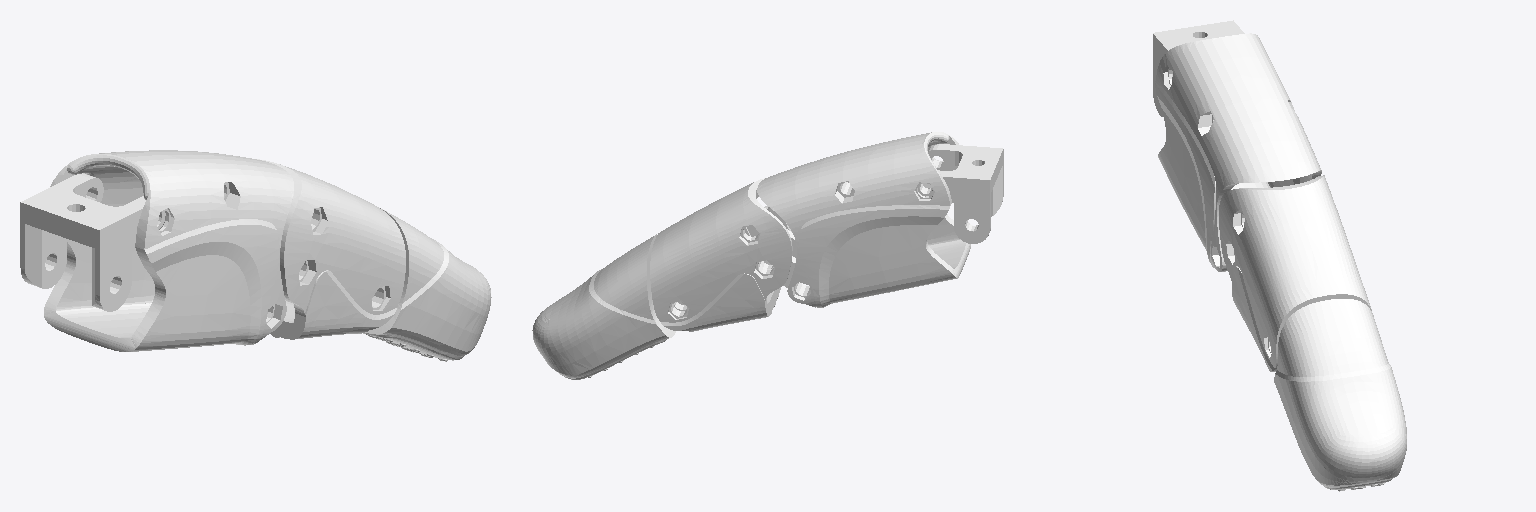
robot.urdf — inspire:
<?xml version="1.0" ?>
<!-- =================================================================================== -->
<!-- |    This document was autogenerated by xacro from inspire/urdf/urdf_right_12_20.xacro | -->
<!-- |    EDITING THIS FILE BY HAND IS NOT RECOMMENDED                                 | -->
<!-- =================================================================================== -->
<!-- This URDF was automatically created by SolidWorks to URDF Exporter! Originally created by [author] ([email redacted]) 
     Commit Version: 1.6.0-4-g7f85cfe  Build Version: 1.6.7995.38578
     For more information, please see http://wiki.ros.org/sw_urdf_exporter -->
<robot name="inspire">
  <link name="world"/>
  <joint name="world_joint" type="fixed">
    <parent link="world"/>
    <child link="allegro_root0"/>
    <origin rpy="0 0 0" xyz="0 0 0"/>
  </joint>


  <link name="allegro_root0">
    <inertial>
      <origin rpy="0 0 0" xyz="0 0 0"/>
      <mass value="4.00000"/>
      <inertia ixx="1e-4" ixy="0" ixz="0" iyy="1e-4" iyz="0" izz="1e-4"/>
    </inertial>
  </link>
    <link name="allegro_root1">
    <inertial>
      <mass value="0.05"/>
      <inertia ixx="1e-4" ixy="0.0" ixz="0.0" iyy="1e-4" iyz="0.0" izz="1e-4"/>
    </inertial>
  </link>
  <link name="allegro_root2">
    <inertial>
      <mass value="0.05"/>
      <inertia ixx="1e-4" ixy="0.0" ixz="0.0" iyy="1e-4" iyz="0.0" izz="1e-4"/>
    </inertial>
  </link>
    <link name="allegro_root3">
    <inertial>
      <mass value="0.05"/>
      <inertia ixx="1e-4" ixy="0.0" ixz="0.0" iyy="1e-4" iyz="0.0" izz="1e-4"/>
    </inertial>
  </link>
  <link name="allegro_root4">
    <inertial>
      <mass value="0.05"/>
      <inertia ixx="1e-4" ixy="0.0" ixz="0.0" iyy="1e-4" iyz="0.0" izz="1e-4"/>
    </inertial>
  </link>
  <link name="allegro_root5">
    <inertial>
      <mass value="0.05"/>
      <inertia ixx="1e-4" ixy="0.0" ixz="0.0" iyy="1e-4" iyz="0.0" izz="1e-4"/>
    </inertial>
  </link>
  
  <joint name="x_joint" type="prismatic">
    <parent link="allegro_root0"/>
    <child link="allegro_root1"/>
    <axis xyz="1 0 0"/>
    <limit effort="100" lower="-50.0" upper="50.0" velocity="20"/>
  </joint>
  <joint name="y_joint" type="prismatic">
    <parent link="allegro_root1"/>
    <child link="allegro_root2"/>
    <axis xyz="0 1 0"/>
    <limit effort="100" lower="-50.0" upper="50.0" velocity="20"/>
  </joint>
  <joint name="z_joint" type="prismatic">
    <parent link="allegro_root2"/>
    <child link="allegro_root3"/>
    <axis xyz="0 0 1"/>
    <limit effort="100" lower="-50.0" upper="50.0" velocity="20"/>
  </joint>

  <joint name="x_rotation_joint" type="revolute">
    <parent link="allegro_root3"/>
    <child link="allegro_root4"/>
    <axis xyz="1 0 0"/>
    <limit effort="100" lower="-6.28" upper="6.28" velocity="20"/>
  </joint>
  <joint name="y_rotation_joint" type="revolute">
    <parent link="allegro_root4"/>
    <child link="allegro_root5"/>
    <axis xyz="0 1 0"/>
    <limit effort="100" lower="-6.28" upper="6.28" velocity="20"/>
  </joint>
  <joint name="z_rotation_joint" type="revolute">
    <parent link="allegro_root5"/>
    <child link="wrist"/>
    <axis xyz="0 0 1"/>
    <!-- <origin rpy="-0.00000 -0.00000 0" xyz="0 0 0"/> -->
    <limit effort="100" lower="-6.28" upper="6.28" velocity="20"/>
  </joint>



  <link name="wrist"/>
  <joint name="R_hand_base_joint" type="fixed">
    <origin rpy="0.0  0 0" xyz="0.0 0.0 0.000"/>
    <parent link="wrist"/>
    <child link="base_link"/>
  </joint>
  <link name="base_link">
    <inertial>
      <origin rpy="0 0 0" xyz="-4.91696692515552E-05 -0.00297934158474353 -0.0724838074966582"/>
      <mass value="0.260034351097693"/>
      <inertia ixx="0.000240584294557413" ixy="1.12900341553271E-06" ixz="5.34716263010627E-07" iyy="0.000284423438713157" iyz="-1.41174524262487E-05" izz="0.000155854672271766"/>
    </inertial>
    <visual>
      <origin rpy="0 0 0" xyz="0 0 0"/>
      <geometry>
        <mesh filename="inspire/meshes/base_link.STL"/>
      </geometry>
      <material name="">
        <color rgba="1 1 1 1"/>
      </material>
    </visual>
    <collision>
      <origin rpy="0 0 0" xyz="0 0 0"/>
      <geometry>
        <mesh filename="inspire/meshes/base_link.STL"/>
      </geometry>
    </collision>
  </link>
  <link name="right_thumb_1">
    <inertial>
      <origin rpy="0 0 0" xyz="-0.00178423179132732 0.000649410769092404 0.00488589310434417"/>
      <mass value="0.00115518743162309"/>
      <inertia ixx="5.98911473694571E-08" ixy="-8.04324266712912E-09" ixz="-3.29346964287939E-09" iyy="4.07201940087006E-08" iyz="1.1987242259973E-09" izz="6.18161684388651E-08"/>
    </inertial>
    <visual>
      <origin rpy="0 0 0" xyz="0 0 0"/>
      <geometry>
        <mesh filename="inspire/meshes/right_thumb_1.STL"/>
      </geometry>
      <material name="">
        <color rgba="1 1 1 1"/>
      </material>
    </visual>
    <collision>
      <origin rpy="0 0 0" xyz="0 0 0"/>
      <geometry>
        <mesh filename="inspire/meshes/right_thumb_1.STL"/>
      </geometry>
    </collision>
  </link>
  <joint name="right_thumb_1_joint" type="revolute">
    <origin rpy="-3.1416 0 -3.1416" xyz="0.0269 0.02101 -0.069"/>
    <parent link="base_link"/>
    <child link="right_thumb_1"/>
    <axis xyz="0 0 -1"/>
    <limit effort="10" lower="0" upper="1.15" velocity="1"/>
  </joint>
  <link name="right_thumb_2">
    <inertial>
      <origin rpy="0 0 0" xyz="0.0141071308121962 0.0132720367246953 -0.00905029680056009"/>
      <mass value="0.016"/>
      <inertia ixx="1.06573287501608E-06" ixy="-7.61985755293293E-08" ixz="-2.57609628655293E-11" iyy="1.06536320559038E-06" iyz="5.09603163270097E-12" izz="1.39688473195303E-06"/>
    </inertial>
    <visual>
      <origin rpy="0 0 0" xyz="0 0 0"/>
      <geometry>
        <mesh filename="inspire/meshes/right_thumb_2.STL"/>
      </geometry>
      <material name="">
        <color rgba="1 1 1 1"/>
      </material>
    </visual>
    <collision>
      <origin rpy="0 0 0" xyz="0 0 0"/>
      <geometry>
        <mesh filename="inspire/meshes/right_thumb_2.STL"/>
      </geometry>
    </collision>
  </link>
  <joint name="right_thumb_2_joint" type="revolute">
    <origin rpy="1.5708 0 2.7925" xyz="-0.0063016 0.011924 0.003"/>
    <parent link="right_thumb_1"/>
    <child link="right_thumb_2"/>
    <axis xyz="0 0 1"/>
    <limit effort="10" lower="0" upper="0.55" velocity="1"/>
  </joint>
  <link name="right_thumb_3">
    <inertial>
      <origin rpy="0 0 0" xyz="0.00937843602210774 0.00404407714692963 -0.00753947150343212"/>
      <mass value="0.012"/>
      <inertia ixx="4.67837152048068E-07" ixy="-4.50034504480504E-08" ixz="-7.50604972036399E-11" iyy="3.98821847444202E-07" iyz="-2.80308780973008E-10" izz="4.24792779381109E-07"/>
    </inertial>
    <visual>
      <origin rpy="0 0 0" xyz="0 0 0"/>
      <geometry>
        <mesh filename="inspire/meshes/right_thumb_3.STL"/>
      </geometry>
      <material name="">
        <color rgba="1 1 1 1"/>
      </material>
    </visual>
    <collision>
      <origin rpy="0 0 0" xyz="0 0 0"/>
      <geometry>
        <mesh filename="inspire/meshes/right_thumb_3.STL"/>
      </geometry>
    </collision>
  </link>
  <joint name="right_thumb_3_joint" type="revolute">
    <origin rpy="0 0 0" xyz="0.034968 0.021325 -0.0015"/>
    <parent link="right_thumb_2"/>
    <child link="right_thumb_3"/>
    <axis xyz="0 0 1"/>
    <limit effort="10" lower="0" upper="3.14" velocity="1"/>
    <mimic joint="right_thumb_2_joint" multiplier="0.60" offset="0"/>
  </joint>
  <link name="right_thumb_4">
    <inertial>
      <origin rpy="0 0 0" xyz="0.0109973997213043 0.00131062737520288 -0.0073435196000655"/>
      <mass value="0.01"/>
      <inertia ixx="6.43617695804108E-07" ixy="-2.57371067432159E-07" ixz="8.83834214745077E-10" iyy="7.63665185138253E-07" iyz="7.47494238463672E-10" izz="9.2568863295396E-07"/>
    </inertial>
    <visual>
      <origin rpy="0 0 0" xyz="0 0 0"/>
      <geometry>
        <mesh filename="inspire/meshes/right_thumb_4.STL"/>
      </geometry>
      <material name="">
        <color rgba="1 1 1 1"/>
      </material>
    </visual>
    <collision>
      <origin rpy="0 0 0" xyz="0 0 0"/>
      <geometry>
        <mesh filename="inspire/meshes/right_thumb_4.STL"/>
      </geometry>
    </collision>
  </link>
  <joint name="right_thumb_4_joint" type="revolute">
    <origin rpy="0 0 0" xyz="0.018887 0.011501 -0.0002"/>
    <parent link="right_thumb_3"/>
    <child link="right_thumb_4"/>
    <axis xyz="0 0 1"/>
    <limit effort="10" lower="0" upper="3.14" velocity="1"/>
    <mimic joint="right_thumb_2_joint" multiplier="0.8" offset="0"/>
  </joint>
  <link name="right_index_1">
    <inertial>
      <origin rpy="0 0 0" xyz="-0.00183546255523356 0.0123552521861834 -0.00664922294778368"/>
      <mass value="0.00719999389753264"/>
      <inertia ixx="1.28371991025318E-06" ixy="4.21564829206078E-08" ixz="-4.10859703056649E-12" iyy="5.79478432222904E-07" iyz="6.39690407239206E-11" izz="1.32925246769088E-06"/>
    </inertial>
    <visual>
      <origin rpy="0 0 0" xyz="0 0 0"/>
      <geometry>
        <mesh filename="inspire/meshes/right_index_1.STL"/>
      </geometry>
      <material name="">
        <color rgba="1 1 1 1"/>
      </material>
    </visual>
    <collision>
      <origin rpy="0 0 0" xyz="0 0 0"/>
      <geometry>
        <mesh filename="inspire/meshes/right_index_1.STL"/>
      </geometry>
    </collision>
  </link>
  <joint name="right_index_1_joint" type="revolute">
    <origin rpy="-1.5359 0 -1.5708" xyz="0.038679 0.00056467 -0.1564"/>
    <parent link="base_link"/>
    <child link="right_index_1"/>
    <axis xyz="0 0 1"/>
    <limit effort="10" lower="0" upper="1.6" velocity="1"/>
  </joint>
  <link name="right_index_2">
    <inertial>
      <origin rpy="0 0 0" xyz="0.000405081354201142 0.0257028143581744 -0.00609275623125877"/>
      <mass value="0.0096859422185797"/>
      <inertia ixx="2.25513837942244E-06" ixy="4.11239564383381E-07" ixz="-3.94499739658711E-10" iyy="3.91290903748666E-07" iyz="2.79706871963245E-09" izz="2.30200483771215E-06"/>
    </inertial>
    <visual>
      <origin rpy="0 0 0" xyz="0 0 0"/>
      <geometry>
        <mesh filename="inspire/meshes/right_index_2.STL"/>
      </geometry>
      <material name="">
        <color rgba="1 1 1 1"/>
      </material>
    </visual>
    <collision>
      <origin rpy="0 0 0" xyz="0 0 0"/>
      <geometry>
        <mesh filename="inspire/meshes/right_index_2.STL"/>
      </geometry>
    </collision>
  </link>
  <joint name="right_index_2_joint" type="revolute">
    <origin rpy="0 0 0" xyz="-0.0016312 0.032734 -0.00055"/>
    <parent link="right_index_1"/>
    <child link="right_index_2"/>
    <axis xyz="0 0 1"/>
    <limit effort="10" lower="0" upper="3.14" velocity="1"/>
    <mimic joint="right_index_1_joint" multiplier="1.05" offset="0"/>
  </joint>
  <link name="right_middle_1">
    <inertial>
      <origin rpy="0 0 0" xyz="-0.00229221489529491 0.0122787164691098 -0.00664923691414206"/>
      <mass value="0.00719999454699651"/>
      <inertia ixx="1.27961146095209E-06" ixy="6.81307502326408E-08" ixz="-6.13869092479439E-12" iyy="5.83570383259162E-07" iyz="6.33401074034573E-11" izz="1.32923656099557E-06"/>
    </inertial>
    <visual>
      <origin rpy="0 0 0" xyz="0 0 0"/>
      <geometry>
        <mesh filename="inspire/meshes/right_middle_1.STL"/>
      </geometry>
      <material name="">
        <color rgba="1 1 1 1"/>
      </material>
    </visual>
    <collision>
      <origin rpy="0 0 0" xyz="0 0 0"/>
      <geometry>
        <mesh filename="inspire/meshes/right_middle_1.STL"/>
      </geometry>
    </collision>
  </link>
  <joint name="right_middle_1_joint" type="revolute">
    <origin rpy="-1.5708 0 -1.5708" xyz="0.0171 0.00056467 -0.157"/>
    <parent link="base_link"/>
    <child link="right_middle_1"/>
    <axis xyz="0 0 1"/>
    <limit effort="10" lower="0" upper="1.6" velocity="1"/>
  </joint>
  <link name="right_middle_2">
    <inertial>
      <origin rpy="0 0 0" xyz="7.55635061812504E-05 0.0274472409700489 -0.00610051225570537"/>
      <mass value="0.0104603374357648"/>
      <inertia ixx="2.75802690517233E-06" ixy="4.66354191789105E-07" ixz="-3.73412436067728E-12" iyy="4.22418749660047E-07" iyz="7.48571284682703E-11" izz="2.80694637912416E-06"/>
    </inertial>
    <visual>
      <origin rpy="0 0 0" xyz="0 0 0"/>
      <geometry>
        <mesh filename="inspire/meshes/right_middle_2.STL"/>
      </geometry>
      <material name="">
        <color rgba="1 1 1 1"/>
      </material>
    </visual>
    <collision>
      <origin rpy="0 0 0" xyz="0 0 0"/>
      <geometry>
        <mesh filename="inspire/meshes/right_middle_2.STL"/>
      </geometry>
    </collision>
  </link>
  <joint name="right_middle_2_joint" type="revolute">
    <origin rpy="0 0 0" xyz="-0.0028436 0.032651 -0.00055"/>
    <parent link="right_middle_1"/>
    <child link="right_middle_2"/>
    <axis xyz="0 0 1"/>
    <limit effort="10" lower="0" upper="3.14" velocity="1"/>
    <mimic joint="right_middle_1_joint" multiplier="1.05" offset="0"/>
  </joint>
  <link name="right_ring_1">
    <inertial>
      <origin rpy="0 0 0" xyz="-0.00240481178777661 0.0122571709475593 -0.00664923625225445"/>
      <mass value="0.00719998997814135"/>
      <inertia ixx="1.27830103769765E-06" ixy="7.45073064952646E-08" ixz="-6.73880804360017E-12" iyy="5.84879553082369E-07" iyz="6.3350585052199E-11" izz="1.32923557625193E-06"/>
    </inertial>
    <visual>
      <origin rpy="0 0 0" xyz="0 0 0"/>
      <geometry>
        <mesh filename="inspire/meshes/right_ring_1.STL"/>
      </geometry>
      <material name="">
        <color rgba="1 1 1 1"/>
      </material>
    </visual>
    <collision>
      <origin rpy="0 0 0" xyz="0 0 0"/>
      <geometry>
        <mesh filename="inspire/meshes/right_ring_1.STL"/>
      </geometry>
    </collision>
  </link>
  <joint name="right_ring_1_joint" type="revolute">
    <origin rpy="-1.6232 0 -1.5708" xyz="-0.0045302 0.00056467 -0.15683"/>
    <parent link="base_link"/>
    <child link="right_ring_1"/>
    <axis xyz="0 0 1"/>
    <limit effort="10" lower="0" upper="1.6" velocity="1"/>
  </joint>
  <link name="right_ring_2">
    <inertial>
      <origin rpy="0 0 0" xyz="0.000666830906754845 0.0256973412492289 -0.0060927714564012"/>
      <mass value="0.0096859390369724"/>
      <inertia ixx="2.26332196405867E-06" ixy="3.92172318180451E-07" ixz="-3.65715440420713E-10" iyy="3.83108005467821E-07" iyz="2.80158649618184E-09" izz="2.30200501593561E-06"/>
    </inertial>
    <visual>
      <origin rpy="0 0 0" xyz="0 0 0"/>
      <geometry>
        <mesh filename="inspire/meshes/right_ring_2.STL"/>
      </geometry>
      <material name="">
        <color rgba="1 1 1 1"/>
      </material>
    </visual>
    <collision>
      <origin rpy="0 0 0" xyz="0 0 0"/>
      <geometry>
        <mesh filename="inspire/meshes/right_ring_2.STL"/>
      </geometry>
    </collision>
  </link>
  <joint name="right_ring_2_joint" type="revolute">
    <origin rpy="0 0 0" xyz="-0.0031431 0.032624 -0.00055"/>
    <parent link="right_ring_1"/>
    <child link="right_ring_2"/>
    <axis xyz="0 0 1"/>
    <limit effort="10" lower="0" upper="3.14" velocity="1"/>
    <mimic joint="right_ring_1_joint" multiplier="1.05" offset="0"/>
  </joint>
  <link name="right_little_1">
    <inertial>
      <origin rpy="0 0 0" xyz="-0.00316844591541324 0.0120823779446085 -0.00664923024026526"/>
      <mass value="0.00719994987013217"/>
      <inertia ixx="1.26624415714453E-06" ixy="1.17303714016617E-07" ixz="-1.15327375313821E-11" iyy="5.96925804604496E-07" iyz="6.36110319315301E-11" izz="1.32922857962206E-06"/>
    </inertial>
    <visual>
      <origin rpy="0 0 0" xyz="0 0 0"/>
      <geometry>
        <mesh filename="inspire/meshes/right_little_1.STL"/>
      </geometry>
      <material name="">
        <color rgba="1 1 1 1"/>
      </material>
    </visual>
    <collision>
      <origin rpy="0 0 0" xyz="0 0 0"/>
      <geometry>
        <mesh filename="inspire/meshes/right_little_1.STL"/>
      </geometry>
    </collision>
  </link>
  <joint name="right_little_1_joint" type="revolute">
    <origin rpy="-1.6755 0 -1.5708" xyz="-0.025916 0.00056467 -0.15365"/>
    <parent link="base_link"/>
    <child link="right_little_1"/>
    <axis xyz="0 0 1"/>
    <limit effort="10" lower="0" upper="1.6" velocity="1"/>
  </joint>
  <link name="right_little_2">
    <inertial>
      <origin rpy="0 0 0" xyz="0.0204417303421136 -0.00469494170410353 -0.00609999668427265"/>
      <mass value="0.0075928240732547"/>
      <inertia ixx="2.31546812157118E-07" ixy="-7.27021381773956E-08" ixz="2.3664966486269E-11" iyy="1.27663957628266E-06" iyz="-7.58283070676144E-12" izz="1.23909562166535E-06"/>
    </inertial>
    <visual>
      <origin rpy="0 0 0" xyz="0 0 0"/>
      <geometry>
        <mesh filename="inspire/meshes/right_little_2.STL"/>
      </geometry>
      <material name="">
        <color rgba="1 1 1 1"/>
      </material>
    </visual>
    <collision>
      <origin rpy="0 0 0" xyz="0 0 0"/>
      <geometry>
        <mesh filename="inspire/meshes/right_little_2.STL"/>
      </geometry>
    </collision>
  </link>
  <joint name="right_little_2_joint" type="revolute">
    <origin rpy="0 0 1.5708" xyz="-0.005182 0.032363 -0.00055"/>
    <parent link="right_little_1"/>
    <child link="right_little_2"/>
    <axis xyz="0 0 1"/>
    <limit effort="10" lower="0" upper="3.14" velocity="1"/>
    <mimic joint="right_little_1_joint" multiplier="1.18" offset="0"/>
  </joint>
  <gazebo>
    <plugin filename="libgazebo_ros_control.so" name="gazebo_ros_control">
      <robotNamespace>/</robotNamespace>
      <legacyModeNS>true</legacyModeNS>
      <controlPeriod>0.001</controlPeriod>
      <robotSimType>gazebo_ros_control/DefaultRobotHWSim</robotSimType>
    </plugin>
  </gazebo>
  <transmission name="tran1">
    <type>transmission_interface/SimpleTransmission</type>
    <joint name="right_thumb_1_joint">
      <hardwareInterface>hardware_interface/PositionJointInterface</hardwareInterface>
    </joint>
    <actuator name="motor1">
      <hardwareInterface>hardware_interface/PositionJointInterface</hardwareInterface>
      <mechanicalReduction>1</mechanicalReduction>
    </actuator>
  </transmission>
  <transmission name="tran1">
    <type>transmission_interface/SimpleTransmission</type>
    <joint name="right_thumb_2_joint">
      <hardwareInterface>hardware_interface/PositionJointInterface</hardwareInterface>
    </joint>
    <actuator name="motor1">
      <hardwareInterface>hardware_interface/PositionJointInterface</hardwareInterface>
      <mechanicalReduction>1</mechanicalReduction>
    </actuator>
  </transmission>
  <transmission name="tran1">
    <type>transmission_interface/SimpleTransmission</type>
    <joint name="right_index_1_joint">
      <hardwareInterface>hardware_interface/PositionJointInterface</hardwareInterface>
    </joint>
    <actuator name="motor1">
      <hardwareInterface>hardware_interface/PositionJointInterface</hardwareInterface>
      <mechanicalReduction>1</mechanicalReduction>
    </actuator>
  </transmission>
  <transmission name="tran1">
    <type>transmission_interface/SimpleTransmission</type>
    <joint name="right_middle_1_joint">
      <hardwareInterface>hardware_interface/PositionJointInterface</hardwareInterface>
    </joint>
    <actuator name="motor1">
      <hardwareInterface>hardware_interface/PositionJointInterface</hardwareInterface>
      <mechanicalReduction>1</mechanicalReduction>
    </actuator>
  </transmission>
  <transmission name="tran1">
    <type>transmission_interface/SimpleTransmission</type>
    <joint name="right_ring_1_joint">
      <hardwareInterface>hardware_interface/PositionJointInterface</hardwareInterface>
    </joint>
    <actuator name="motor1">
      <hardwareInterface>hardware_interface/PositionJointInterface</hardwareInterface>
      <mechanicalReduction>1</mechanicalReduction>
    </actuator>
  </transmission>
  <transmission name="tran1">
    <type>transmission_interface/SimpleTransmission</type>
    <joint name="right_little_1_joint">
      <hardwareInterface>hardware_interface/PositionJointInterface</hardwareInterface>
    </joint>
    <actuator name="motor1">
      <hardwareInterface>hardware_interface/PositionJointInterface</hardwareInterface>
      <mechanicalReduction>1</mechanicalReduction>
    </actuator>
  </transmission>
  <gazebo>
    <plugin filename="libroboticsgroup_gazebo_mimic_joint_plugin.so" name="right_thumb_3_joint_mimic_joint_plugin">
      <joint>right_thumb_2_joint</joint>
      <mimicJoint>right_thumb_3_joint</mimicJoint>
      <hasPID/>
      <multiplier>1.0</multiplier>
      <offset>0</offset>
      <sensitiveness>0.0</sensitiveness>
      <maxEffort>10.0</maxEffort>
    </plugin>
  </gazebo>
  <gazebo>
    <plugin filename="libroboticsgroup_gazebo_mimic_joint_plugin.so" name="right_thumb_4_joint_mimic_joint_plugin">
      <joint>right_thumb_2_joint</joint>
      <mimicJoint>right_thumb_4_joint</mimicJoint>
      <hasPID/>
      <multiplier>1.2</multiplier>
      <offset>0</offset>
      <sensitiveness>0.0</sensitiveness>
      <maxEffort>10.0</maxEffort>
    </plugin>
  </gazebo>
  <gazebo>
    <plugin filename="libroboticsgroup_gazebo_mimic_joint_plugin.so" name="right_index_2_joint_mimic_joint_plugin">
      <joint>right_index_1_joint</joint>
      <mimicJoint>right_index_2_joint</mimicJoint>
      <hasPID/>
      <multiplier>1.0</multiplier>
      <offset>0</offset>
      <sensitiveness>0.0</sensitiveness>
      <maxEffort>10.0</maxEffort>
    </plugin>
  </gazebo>
  <gazebo>
    <plugin filename="libroboticsgroup_gazebo_mimic_joint_plugin.so" name="right_middle_2_joint_mimic_joint_plugin">
      <joint>right_middle_1_joint</joint>
      <mimicJoint>right_middle_2_joint</mimicJoint>
      <hasPID/>
      <multiplier>1.0</multiplier>
      <offset>0</offset>
      <sensitiveness>0.0</sensitiveness>
      <maxEffort>10.0</maxEffort>
    </plugin>
  </gazebo>
  <gazebo>
    <plugin filename="libroboticsgroup_gazebo_mimic_joint_plugin.so" name="right_ring_2_joint_mimic_joint_plugin">
      <joint>right_ring_1_joint</joint>
      <mimicJoint>right_ring_2_joint</mimicJoint>
      <hasPID/>
      <multiplier>1.0</multiplier>
      <offset>0</offset>
      <sensitiveness>0.0</sensitiveness>
      <maxEffort>10.0</maxEffort>
    </plugin>
  </gazebo>
  <gazebo>
    <plugin filename="libroboticsgroup_gazebo_mimic_joint_plugin.so" name="right_little_2_joint_mimic_joint_plugin">
      <joint>right_little_1_joint</joint>
      <mimicJoint>right_little_2_joint</mimicJoint>
      <hasPID/>
      <multiplier>1.0</multiplier>
      <offset>0</offset>
      <sensitiveness>0.0</sensitiveness>
      <maxEffort>10.0</maxEffort>
    </plugin>
  </gazebo>
</robot>

--- Render facts (derived) ---
The picture shows the robot from 3 angles, left to right: view 1: azimuth 30°, elevation 25°; view 2: azimuth 150°, elevation 25°; view 3: azimuth 270°, elevation 25°; orthographic projection.
Model inspire with 21 links and 20 joints (15 revolute, 3 prismatic, 2 fixed), rooted at world, posed every joint at zero.
Visible links, largest first — view 1: right_thumb_2, right_thumb_3, right_thumb_1, right_thumb_4; view 2: right_thumb_2, right_thumb_3, right_thumb_4, right_thumb_1; view 3: right_thumb_2, right_thumb_4, right_thumb_3, right_thumb_1.
Boxes of the visible links, x1,y1,x2,y2 form: right_thumb_2: (44, 150, 293, 351); right_thumb_3: (257, 159, 405, 339); right_thumb_1: (20, 173, 165, 311); right_thumb_4: (363, 208, 491, 361); right_thumb_2: (757, 132, 970, 307); right_thumb_3: (650, 178, 792, 331); right_thumb_4: (532, 234, 686, 379); right_thumb_1: (918, 144, 1003, 243); right_thumb_2: (1155, 33, 1321, 271); right_thumb_4: (1274, 299, 1406, 491); right_thumb_3: (1219, 175, 1371, 371); right_thumb_1: (1153, 20, 1244, 116).
Bounding box of the posed robot: 0.0986 × 0.0485 × 0.0611 m (x, y, z).
Meshes: 13 distinct files referenced, 4 mesh visuals loaded (4 binary STL); not drawn: 9 (reference not matched to a file when rendering).